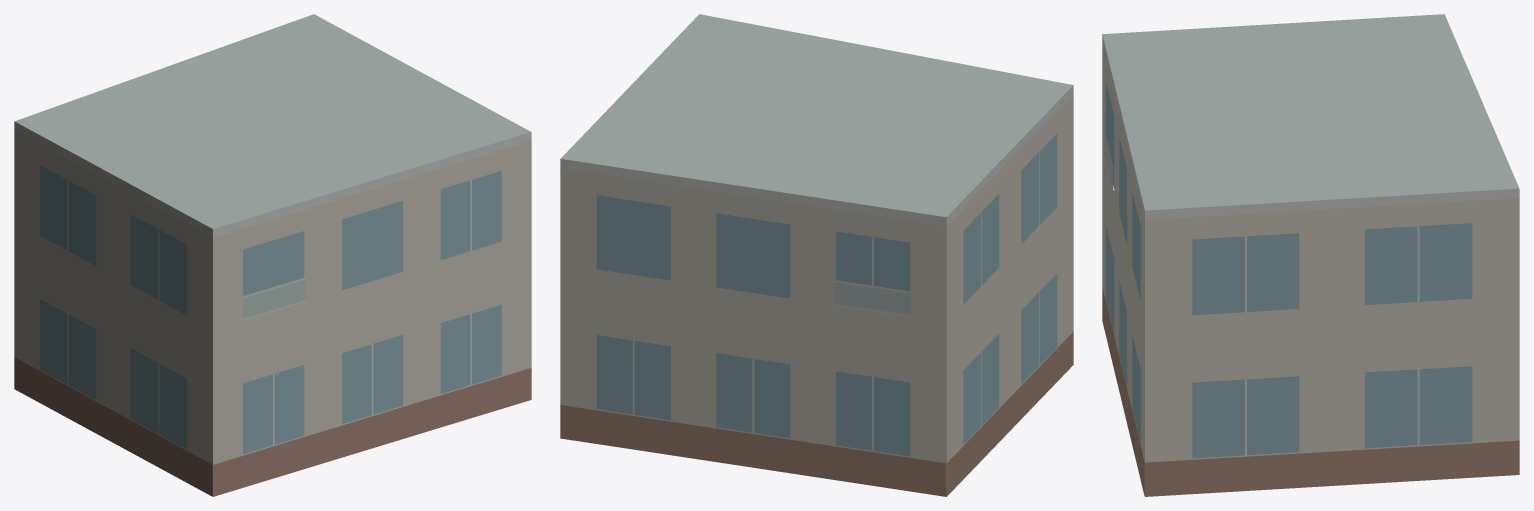
The model's file is survey-upis-32482180.glb.
3 renders of one model, left to right at view 1: azimuth 30°, elevation 25°; view 2: azimuth 150°, elevation 25°; view 3: azimuth 270°, elevation 25°, orthographic. The views are drawn at different scales.
Visible parts, largest first — view 1: survey-upis-32482180.tmp; view 2: survey-upis-32482180.tmp; view 3: survey-upis-32482180.tmp.
Boxes of the visible parts, left/top/right/bottom form: survey-upis-32482180.tmp: left=14, top=14, right=531, bottom=496; survey-upis-32482180.tmp: left=560, top=14, right=1073, bottom=496; survey-upis-32482180.tmp: left=1102, top=14, right=1519, bottom=496.
Bounding box in the file's own units: 11.06 × 7.5 × 9.92.
